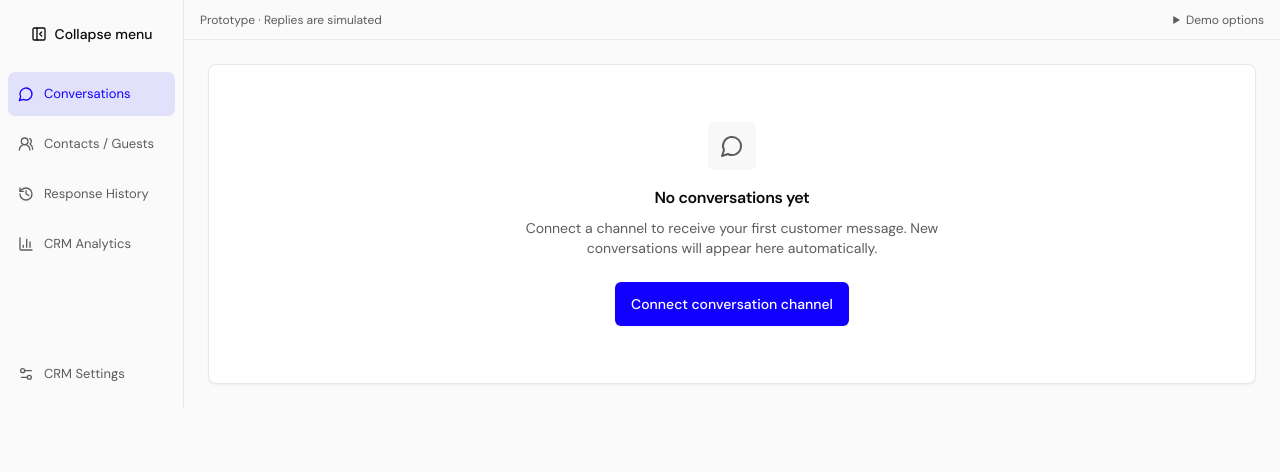
Test case: Prime CRM page content › keeps channel setup reachable and in the same demo mode
Click the link "Connect conversation channel": (732, 304) [615, 282, 849, 326]
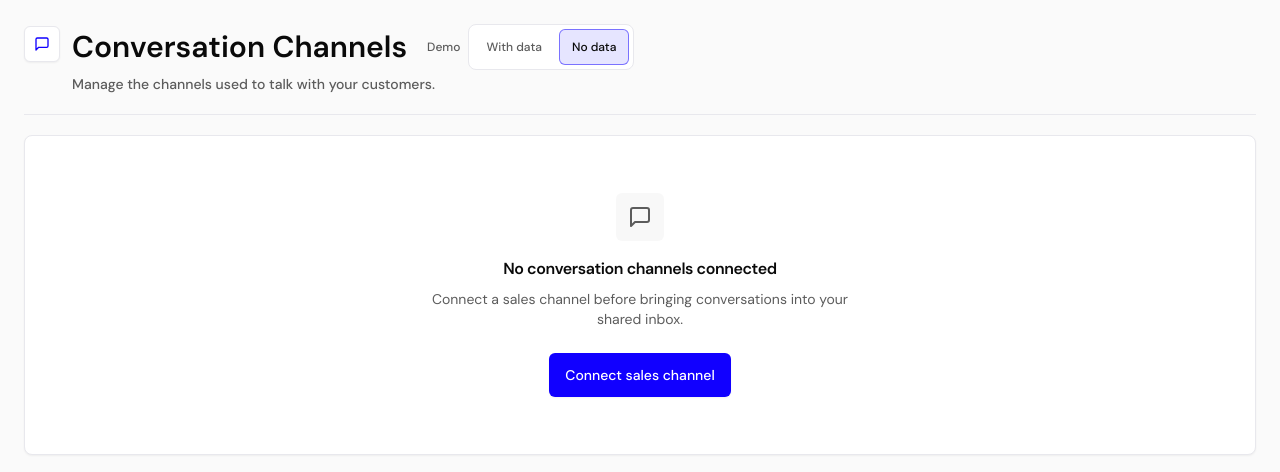
Expected: the heading "Conversation Channels" is shown, [72, 29, 407, 65]
